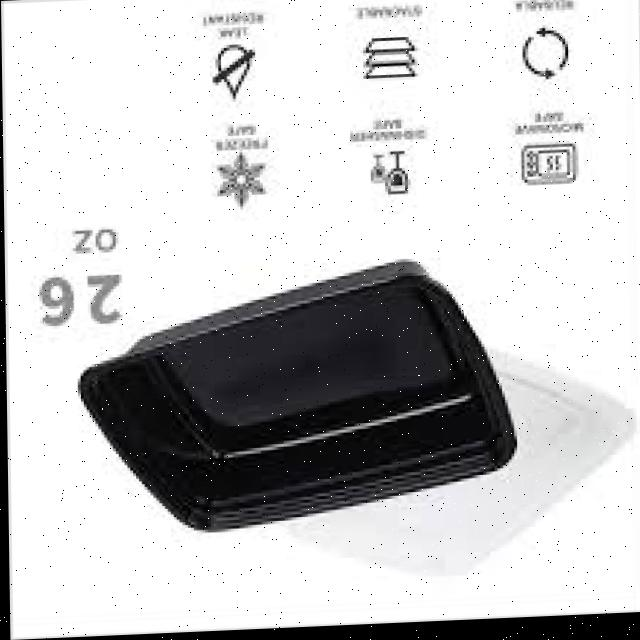disposable: (48, 255, 522, 540)
